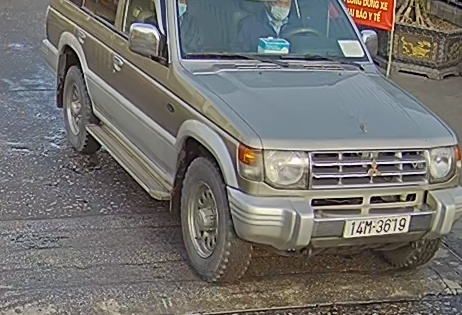vehicle plate: (342, 213, 414, 237)
